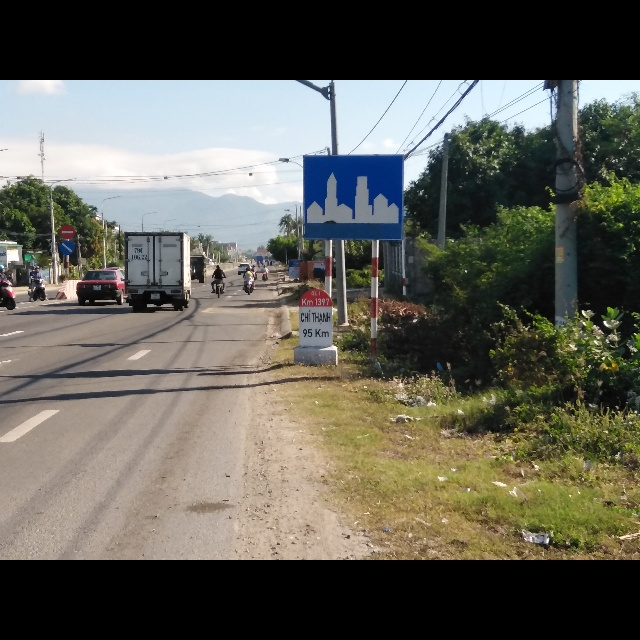Khu đông dân cư: (303, 154, 408, 242)
